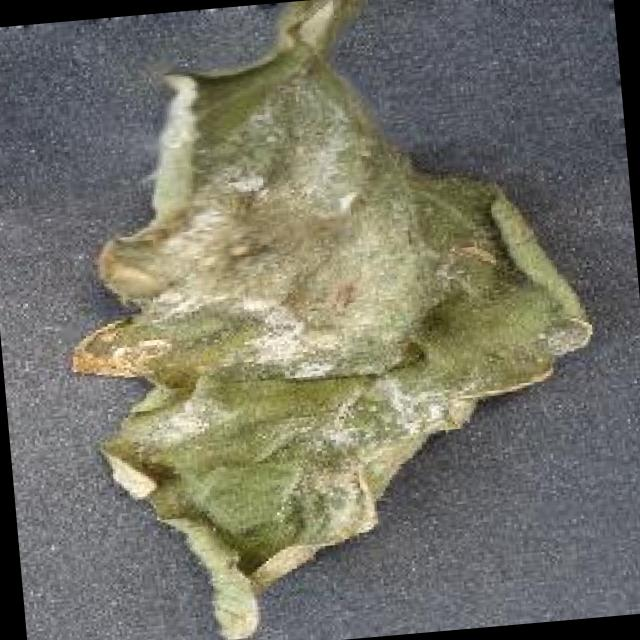Tomato_Late_Blight: (37, 0, 621, 640)
